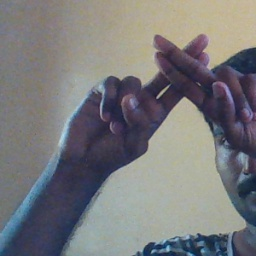F: (120, 25, 250, 133)
